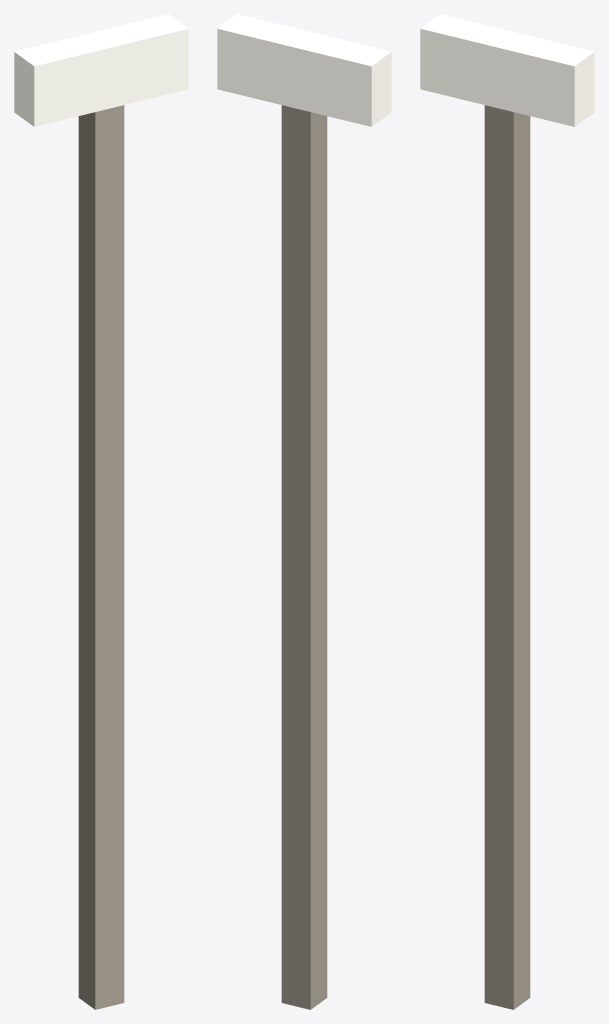
Rendered from structure.glb.
3 renders of one model, left to right at view 1: azimuth 30°, elevation 25°; view 2: azimuth 150°, elevation 25°; view 3: azimuth 330°, elevation 25°, orthographic.
Parts seen in each view (by area): view 1: Box2, Box3; view 2: Box2, Box3; view 3: Box2, Box3.
Part boxes in pixels (<box>): Box2: <box>78,105,124,1009</box>; Box3: <box>14,14,188,126</box>; Box2: <box>281,105,327,1009</box>; Box3: <box>217,14,391,126</box>; Box2: <box>484,105,530,1009</box>; Box3: <box>420,14,594,126</box>.
Size of what is drawn, in the model's own units: 1.6 by 9.5 by 0.36.
